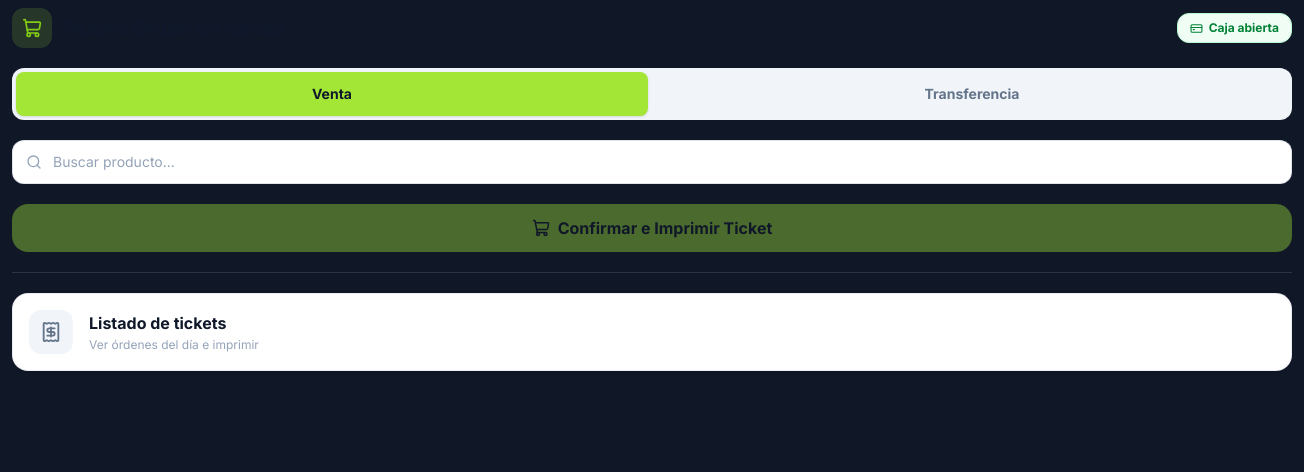
it: TiendaVentasPage › busca productos al escribir en el buscador
Type "leche" into the field with placeholder "Buscar producto..." at point(652, 162), box [12, 140, 1292, 184]
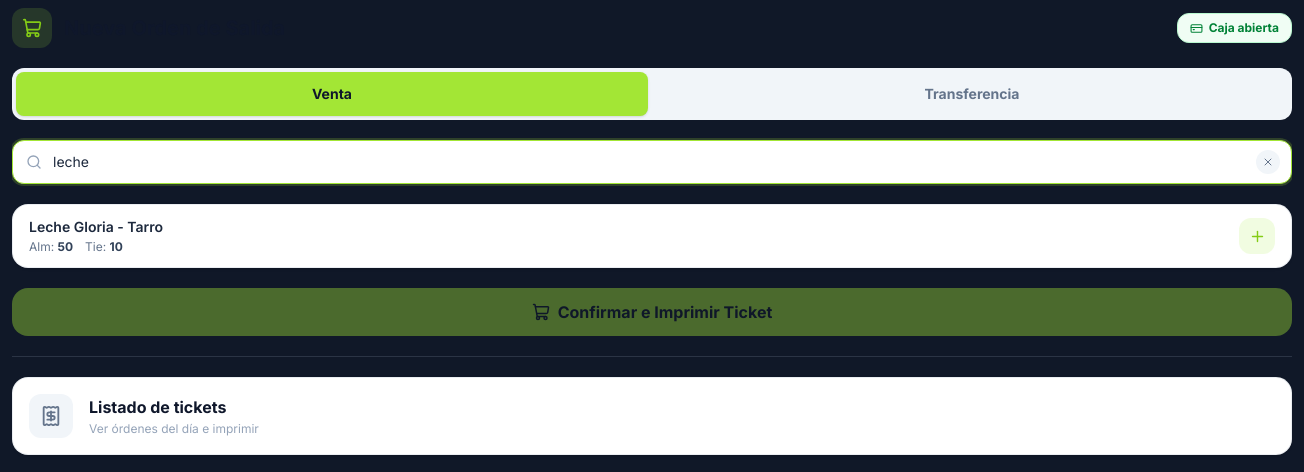
Check: the text "Leche Gloria - Tarro" is shown, box [29, 218, 163, 235]
